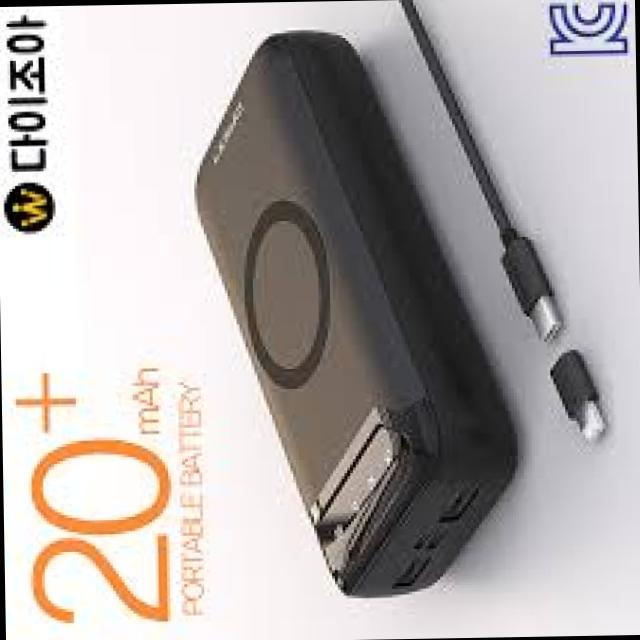power_bank: (190, 24, 528, 599)
